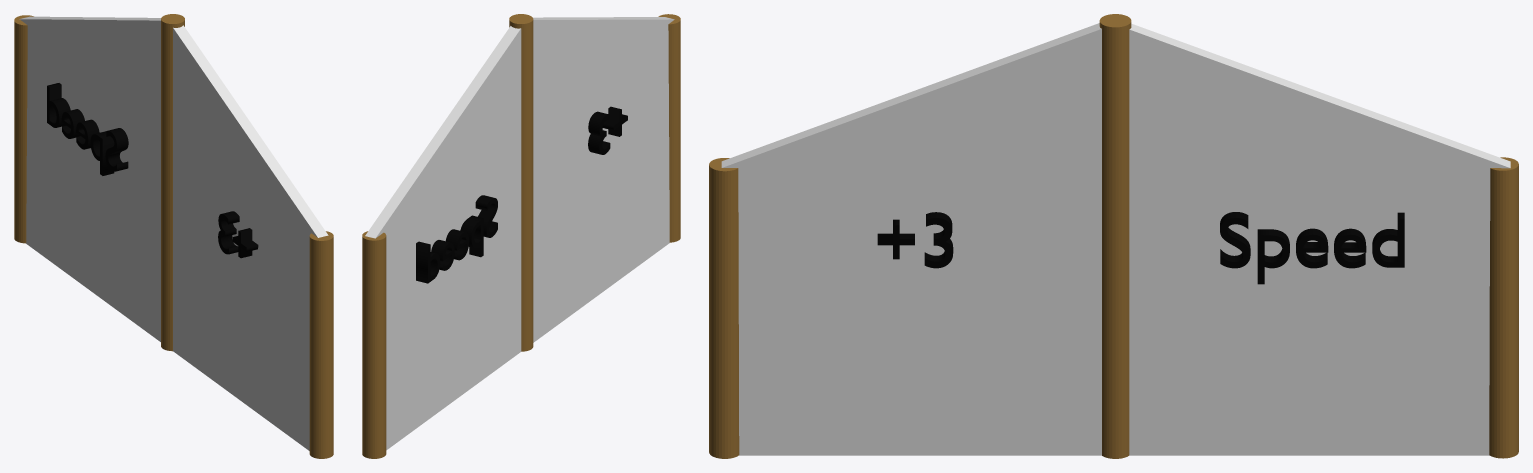
The model's file is gate.fbx.
3 views of the same model, side by side, from view 1: azimuth 30°, elevation 25°; view 2: azimuth 150°, elevation 25°; view 3: azimuth 270°, elevation 25° (orthographic). The views are drawn at different scales.
Visible parts, largest first — view 1: Left, Right, LeftCylnder, MiddleScylnder, TextRight, RightCylinder, TextLeft; view 2: Right, Left, RightCylinder, MiddleScylnder, TextRight, LeftCylnder, TextLeft; view 3: Left, Right, MiddleScylnder, LeftCylnder, RightCylinder, TextRight, TextLeft.
Boxes of the visible parts, <box> form: Left: <box>173,25,328,450</box>; Right: <box>19,16,160,341</box>; LeftCylnder: <box>309,231,333,458</box>; MiddleScylnder: <box>161,14,184,351</box>; TextRight: <box>47,83,128,175</box>; RightCylinder: <box>14,15,33,243</box>; TextLeft: <box>218,211,258,258</box>; Right: <box>365,26,521,450</box>; Left: <box>533,17,674,342</box>; RightCylinder: <box>362,231,386,458</box>; MiddleScylnder: <box>509,14,533,351</box>; TextRight: <box>416,195,497,283</box>; LeftCylnder: <box>658,14,680,242</box>; TextLeft: <box>588,106,627,154</box>; Left: <box>721,23,1101,455</box>; Right: <box>1129,23,1510,455</box>; MiddleScylnder: <box>1099,14,1131,458</box>; LeftCylnder: <box>709,158,739,458</box>; RightCylinder: <box>1489,157,1518,458</box>; TextRight: <box>1220,212,1404,284</box>; TextLeft: <box>877,212,953,268</box>.
Bounding box in the file's own units: 60 × 600 × 1020.
